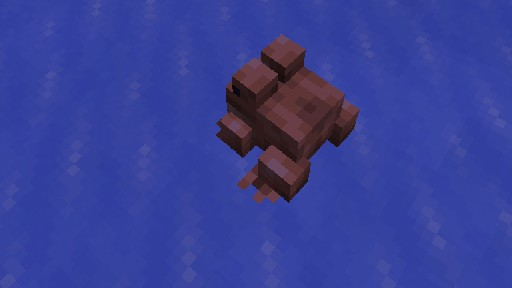frog: (215, 33, 359, 204)
